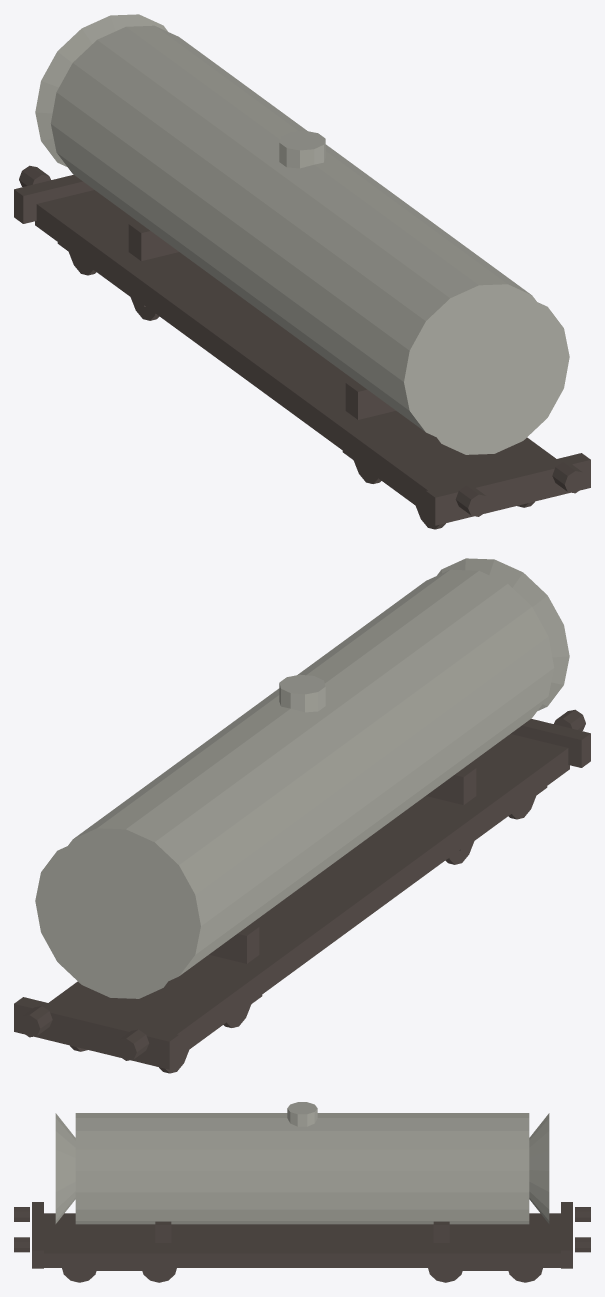
Rendered from SM_Vagon_Cercano_v4_LOD1.fbx.
The picture shows the model from 3 angles, top to bottom: view 1: azimuth 30°, elevation 25°; view 2: azimuth 150°, elevation 25°; view 3: azimuth 270°, elevation 25°; orthographic projection. The views are drawn at different scales.
Visible parts, largest first — view 1: SM_bloques.vagon_cercano_v4_LOD1; view 2: SM_bloques.vagon_cercano_v4_LOD1; view 3: SM_bloques.vagon_cercano_v4_LOD1.
Part boxes in pixels (box(x1,y1,x2,y2)): SM_bloques.vagon_cercano_v4_LOD1: box(14, 14, 590, 529); SM_bloques.vagon_cercano_v4_LOD1: box(14, 558, 590, 1073); SM_bloques.vagon_cercano_v4_LOD1: box(14, 1102, 590, 1282).
Bounding box in the file's own units: 2.9 × 4.43 × 14.5.
